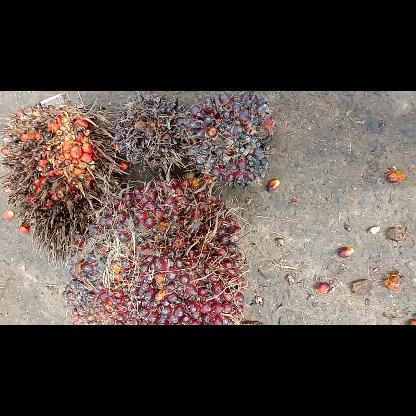TBS abnormal: (180, 92, 276, 190), (108, 92, 190, 172)
TBS masak: (61, 176, 248, 324)
Terlalu masak: (0, 102, 131, 270)
